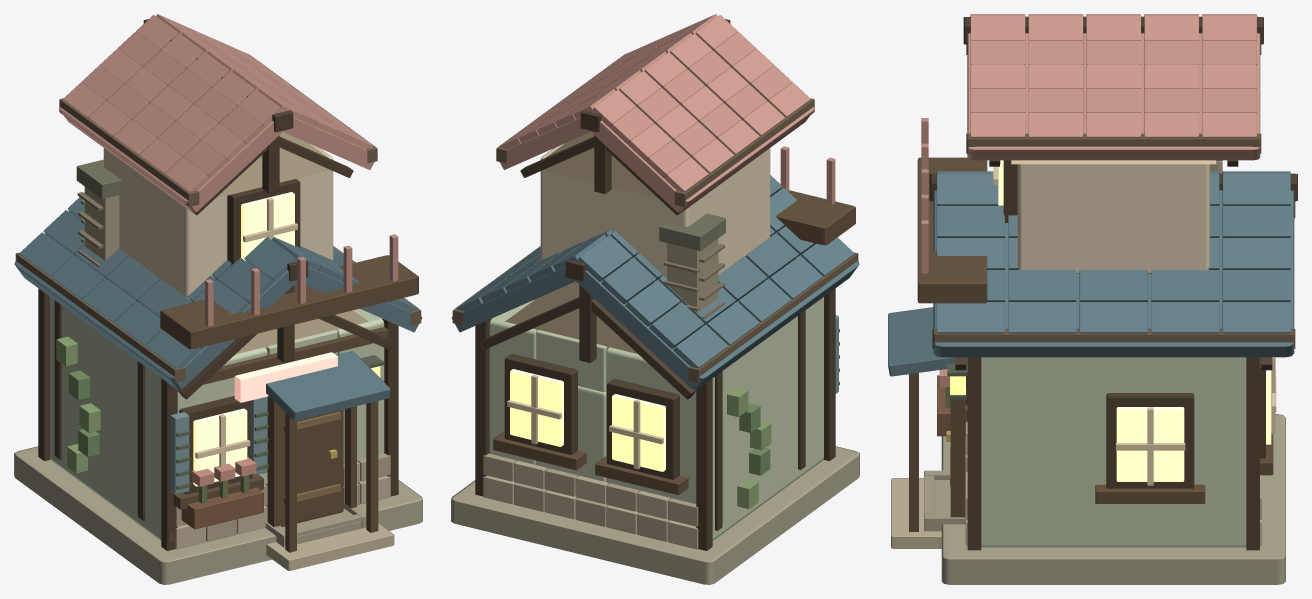
File: workshop-2-2.glb
3 renders of one model, left to right at view 1: azimuth 30°, elevation 25°; view 2: azimuth 150°, elevation 25°; view 3: azimuth 270°, elevation 25°, orthographic. The views are drawn at different scales.
Visible parts, largest first — view 1: workshop-2-2, door-hinge; view 2: workshop-2-2; view 3: workshop-2-2.
Part boxes in pixels (x1,y1,x2,y2): workshop-2-2: (14, 14, 422, 584); door-hinge: (280, 407, 343, 526); workshop-2-2: (451, 14, 859, 584); workshop-2-2: (888, 14, 1297, 584).
Size of the model in its own units: 1.88 by 3 by 2.24.
